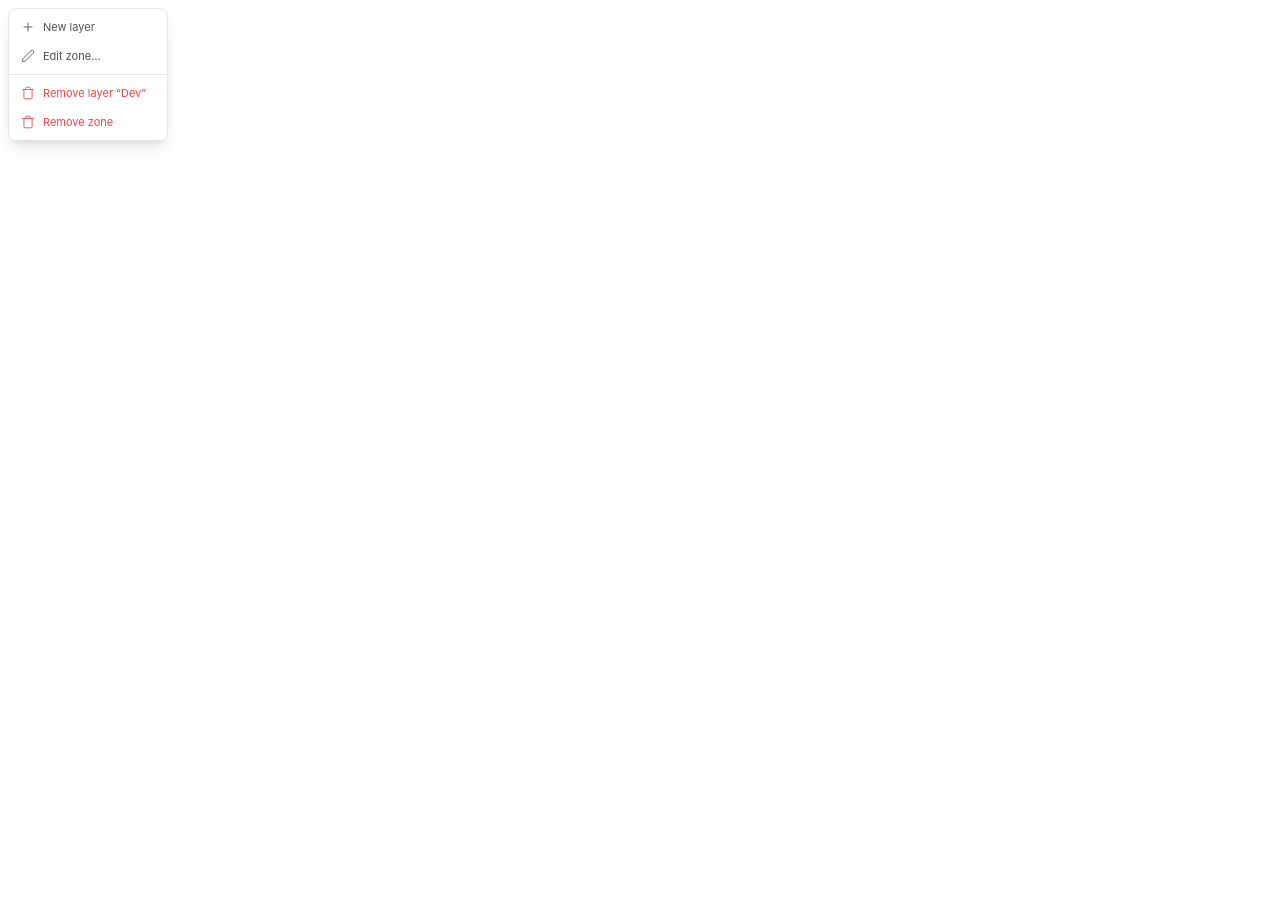
Test: ZoneMenus › writes nothing when Save changes nothing in a zone with layers
Click the button "Edit zone…". click: (88, 56)
box: [9, 42, 167, 70]
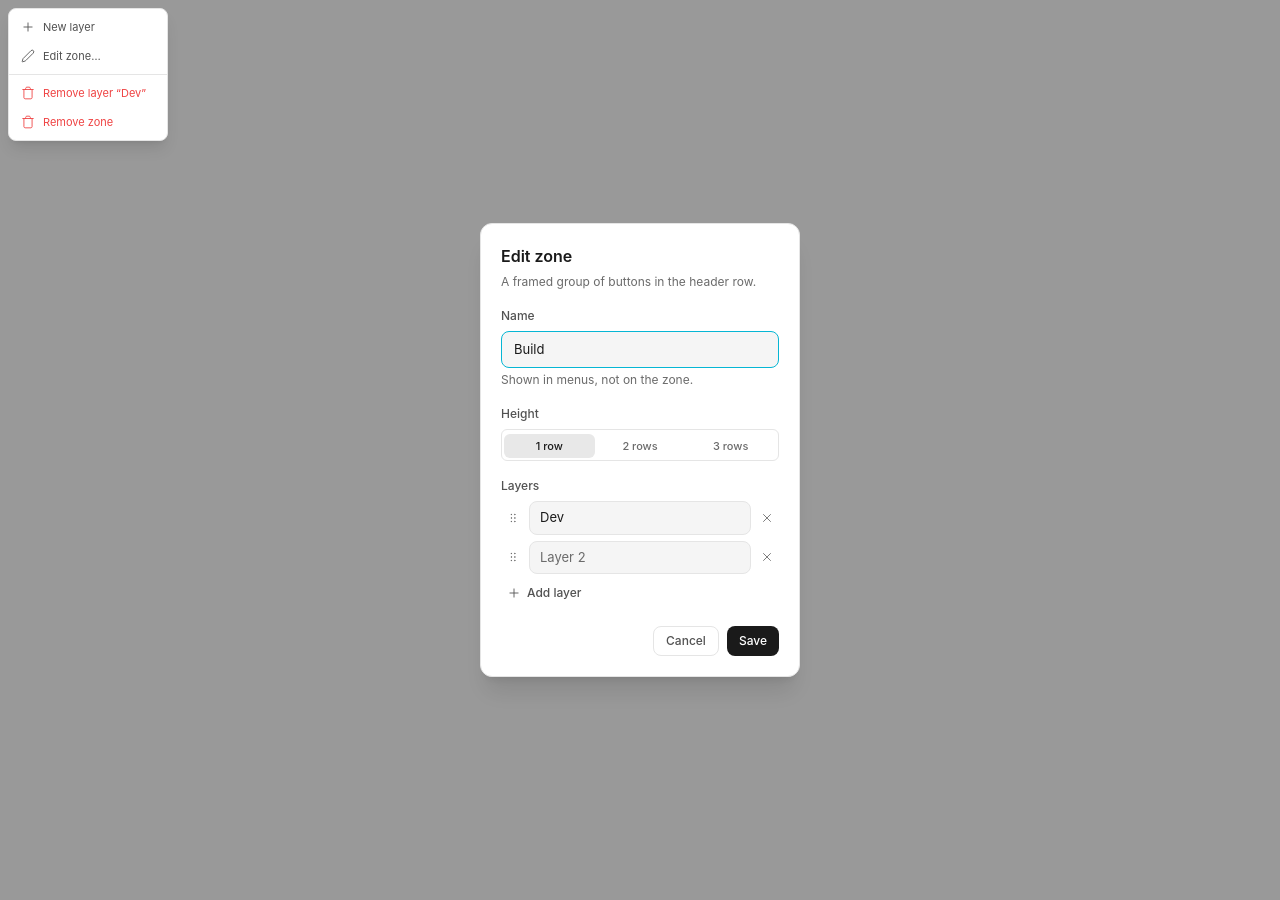
Click the button "Save". click: (753, 641)
box: [727, 626, 779, 656]
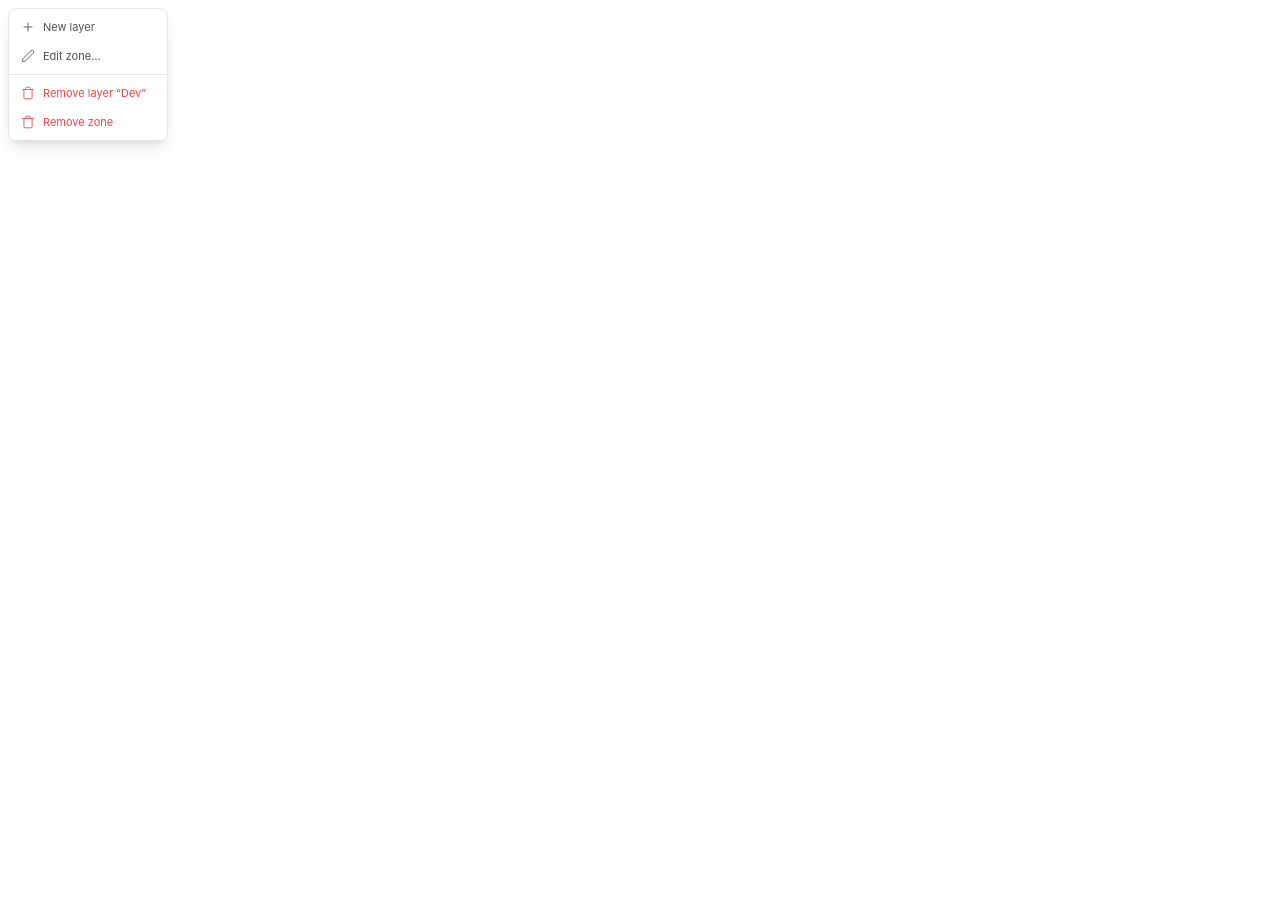
Expected: the dialog is gone
